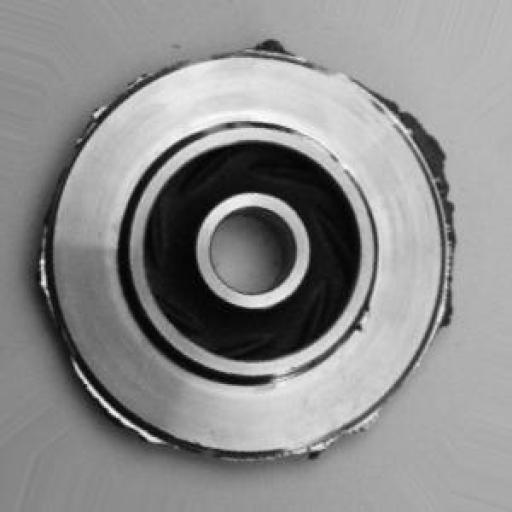defect: (26, 32, 476, 474)
